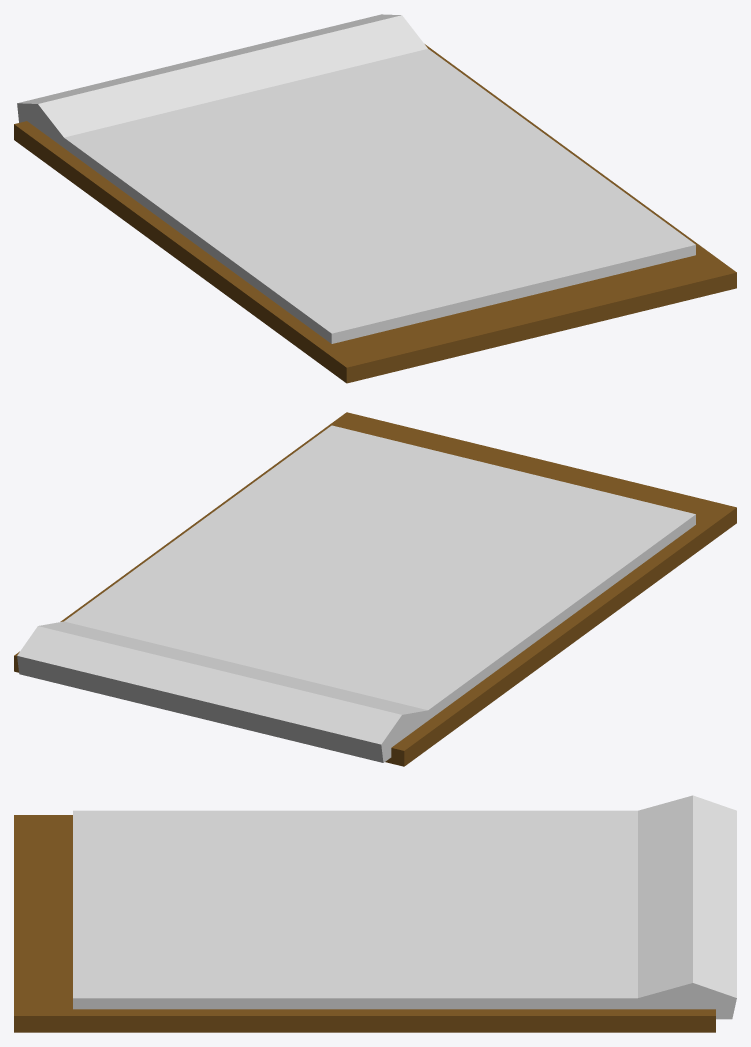
Rendered from Notepad.fbx.
The picture shows the model from 3 angles, top to bottom: view 1: azimuth 30°, elevation 25°; view 2: azimuth 150°, elevation 25°; view 3: azimuth 270°, elevation 25°; orthographic projection. The views are drawn at different scales.
Visible parts, largest first — view 1: Notepad; view 2: Notepad; view 3: Notepad.
Boxes of the visible parts, bbox=[...] form: Notepad: bbox=[14, 14, 736, 383]; Notepad: bbox=[14, 412, 736, 766]; Notepad: bbox=[14, 795, 736, 1032].
Size of the model in its own units: 17.73 by 1.77 by 26.97.
